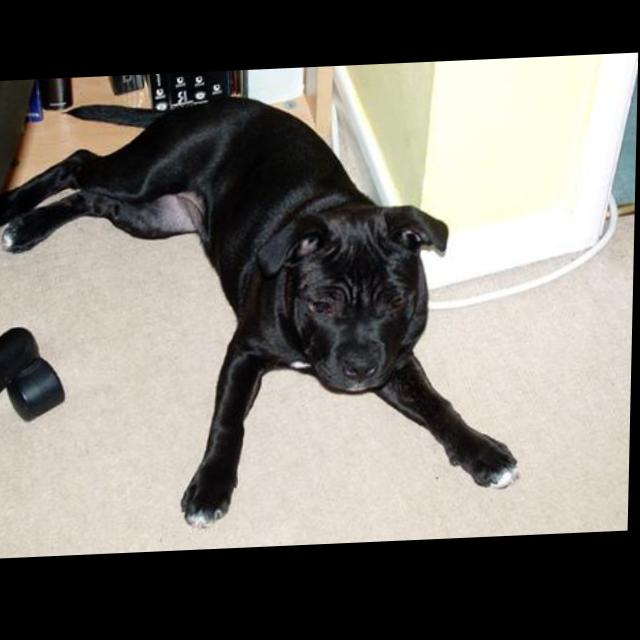staffford: (1, 85, 531, 540)
